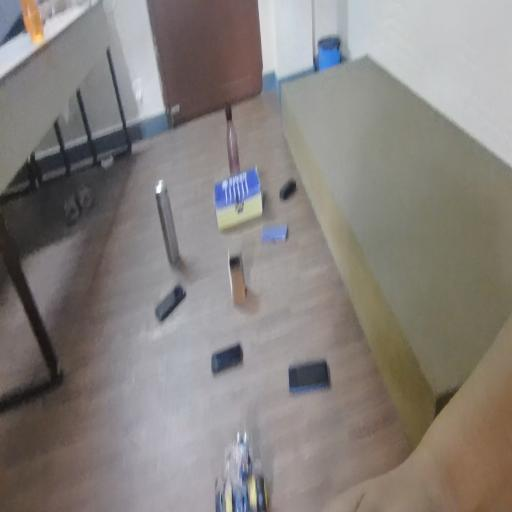Bottle: (222, 99, 264, 182)
car: (209, 431, 274, 512)
